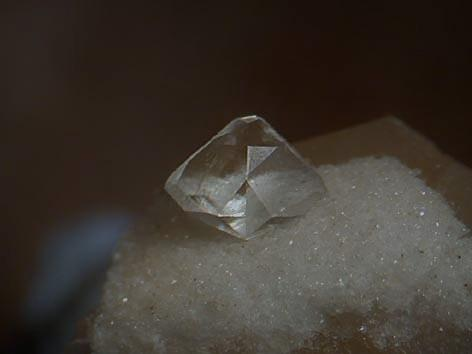calcite: (165, 115, 327, 238)
